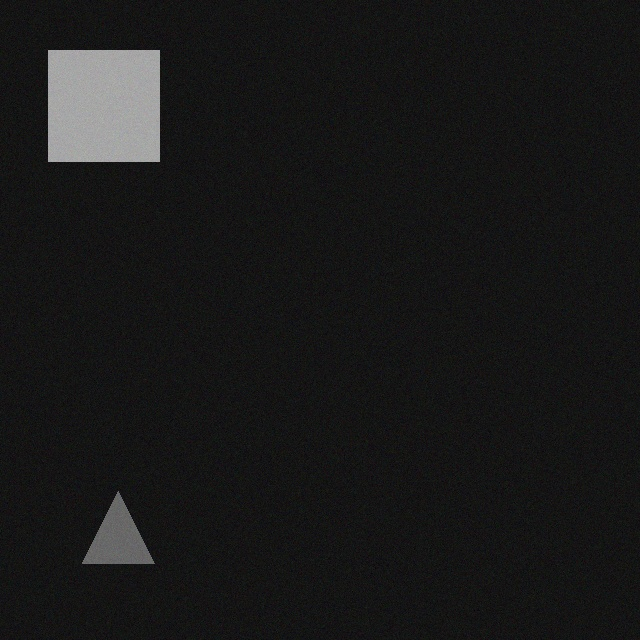square: (37, 40, 148, 151)
triangle: (71, 481, 143, 553)
